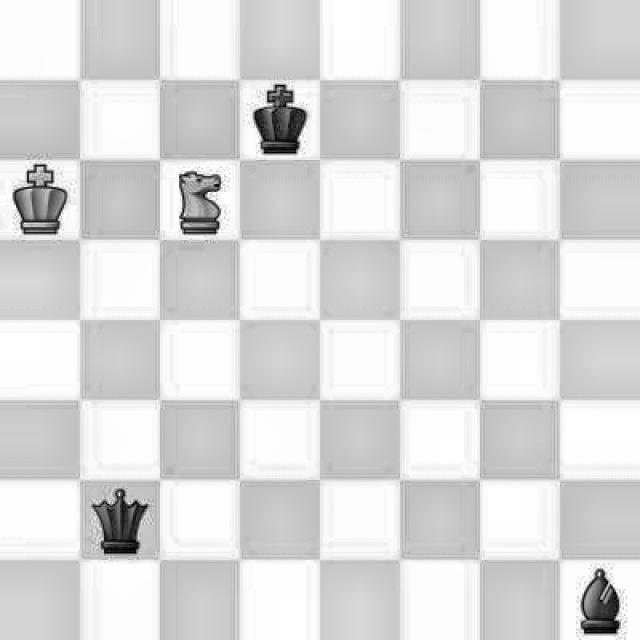black bishop: (570, 571, 632, 639)
black king: (248, 77, 308, 153)
black queen: (83, 483, 162, 557)
white king: (5, 158, 78, 239)
whiteknight: (163, 154, 236, 237)
